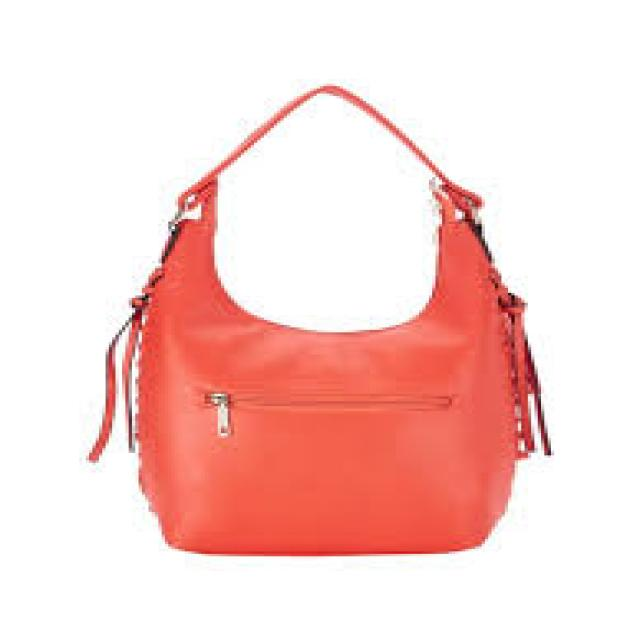handbag: (86, 81, 551, 556)
